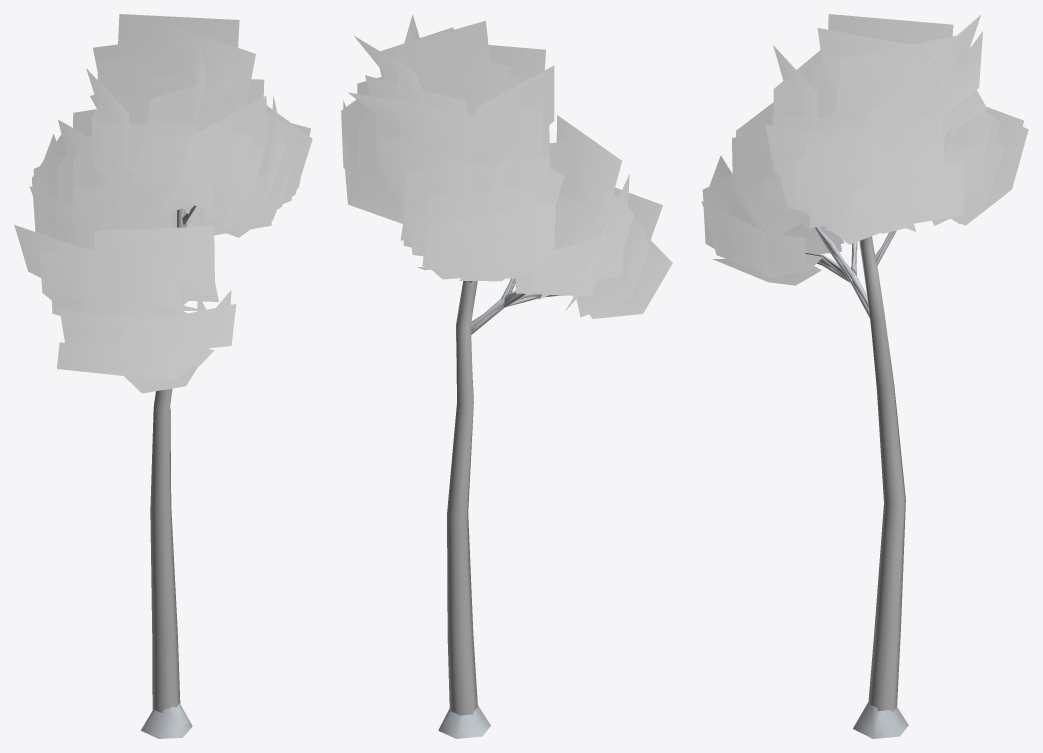
Rendered from Tree_Small_3_Tall_Snow.fbx.
3 renders of one model, left to right at view 1: azimuth 30°, elevation 25°; view 2: azimuth 150°, elevation 25°; view 3: azimuth 270°, elevation 25°, orthographic. The views are drawn at different scales.
Visible parts, largest first — view 1: Tree_Small_3_Snow_LOD0, Tree_Small_3_Snow_Colider; view 2: Tree_Small_3_Snow_LOD0, Tree_Small_3_Snow_Colider; view 3: Tree_Small_3_Snow_LOD0, Tree_Small_3_Snow_Colider.
Boxes of the visible parts, x1=… form: Tree_Small_3_Snow_LOD0: x1=14, y1=14, x2=312, y2=738; Tree_Small_3_Snow_Colider: x1=150, y1=388, x2=180, y2=712; Tree_Small_3_Snow_LOD0: x1=341, y1=14, x2=672, y2=738; Tree_Small_3_Snow_Colider: x1=447, y1=325, x2=477, y2=715; Tree_Small_3_Snow_LOD0: x1=701, y1=14, x2=1028, y2=738; Tree_Small_3_Snow_Colider: x1=868, y1=315, x2=905, y2=712.
Size of what is drawn, in the model's own units: 628 by 1417 by 589.
